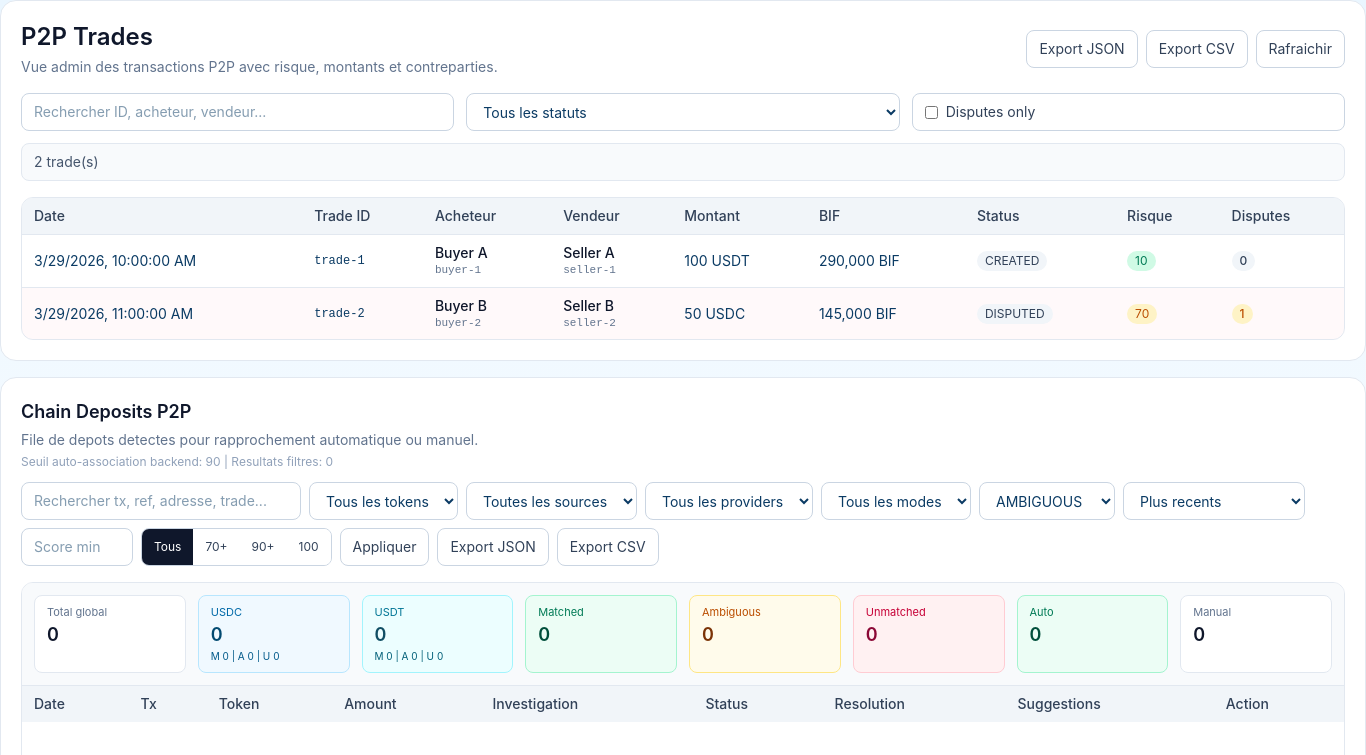
Test case: P2PAdminTrades › filters trades to disputed ones only
Expected: the text "trade-1" is shown, 302,234 -> 423,287
Expected: the text "trade-2" is shown, 302,287 -> 423,339
Click the checkbox labelled "Disputes only".
click(931, 112)  # box 925,106 -> 938,118
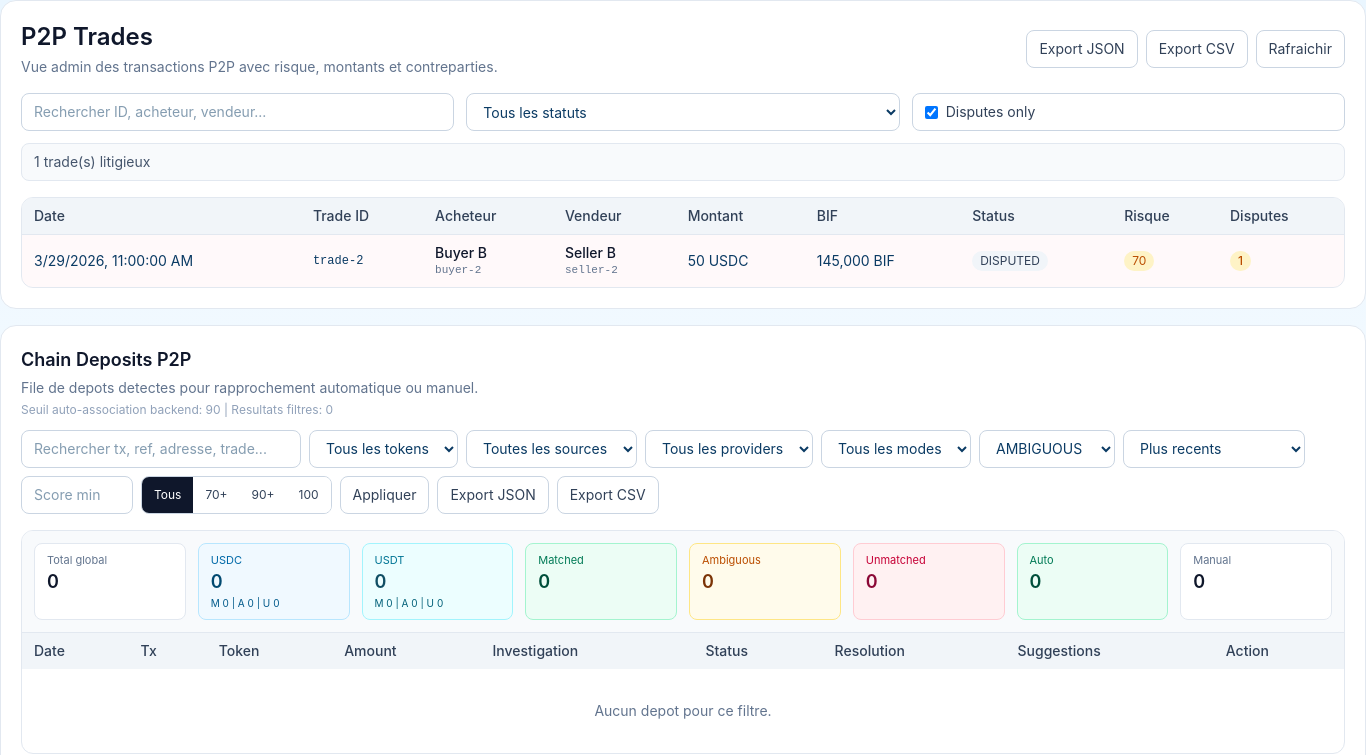
Expected: the text "trade-2" is shown, 301,234 -> 423,287
Expected: the text "trade-1" is gone
Expected: the text "1 trade(s) litigieux" is shown, 21,143 -> 1345,181
